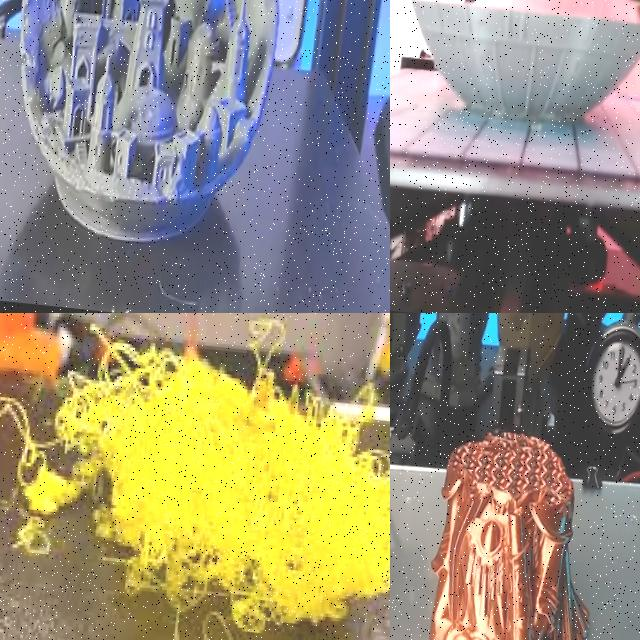spaghetti: (12, 330, 390, 640)
